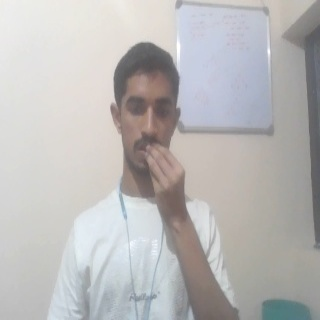Food: (143, 140, 191, 236)
